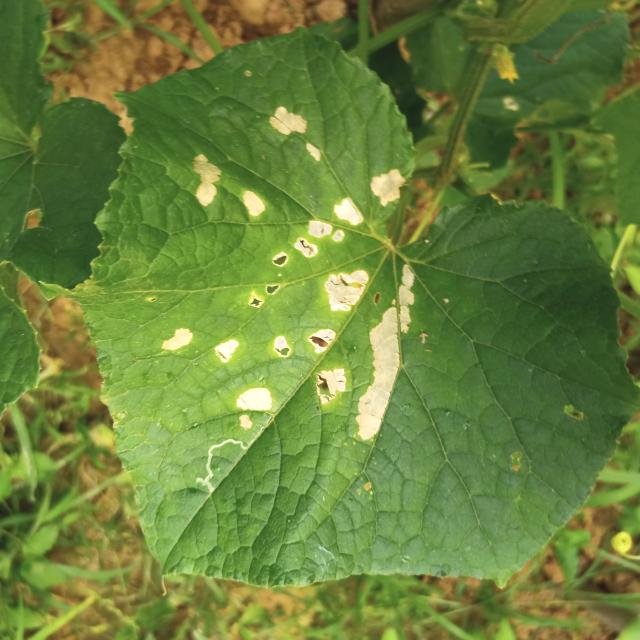disease_cucumber: (154, 165, 416, 440), (190, 148, 266, 224), (269, 105, 324, 161)
